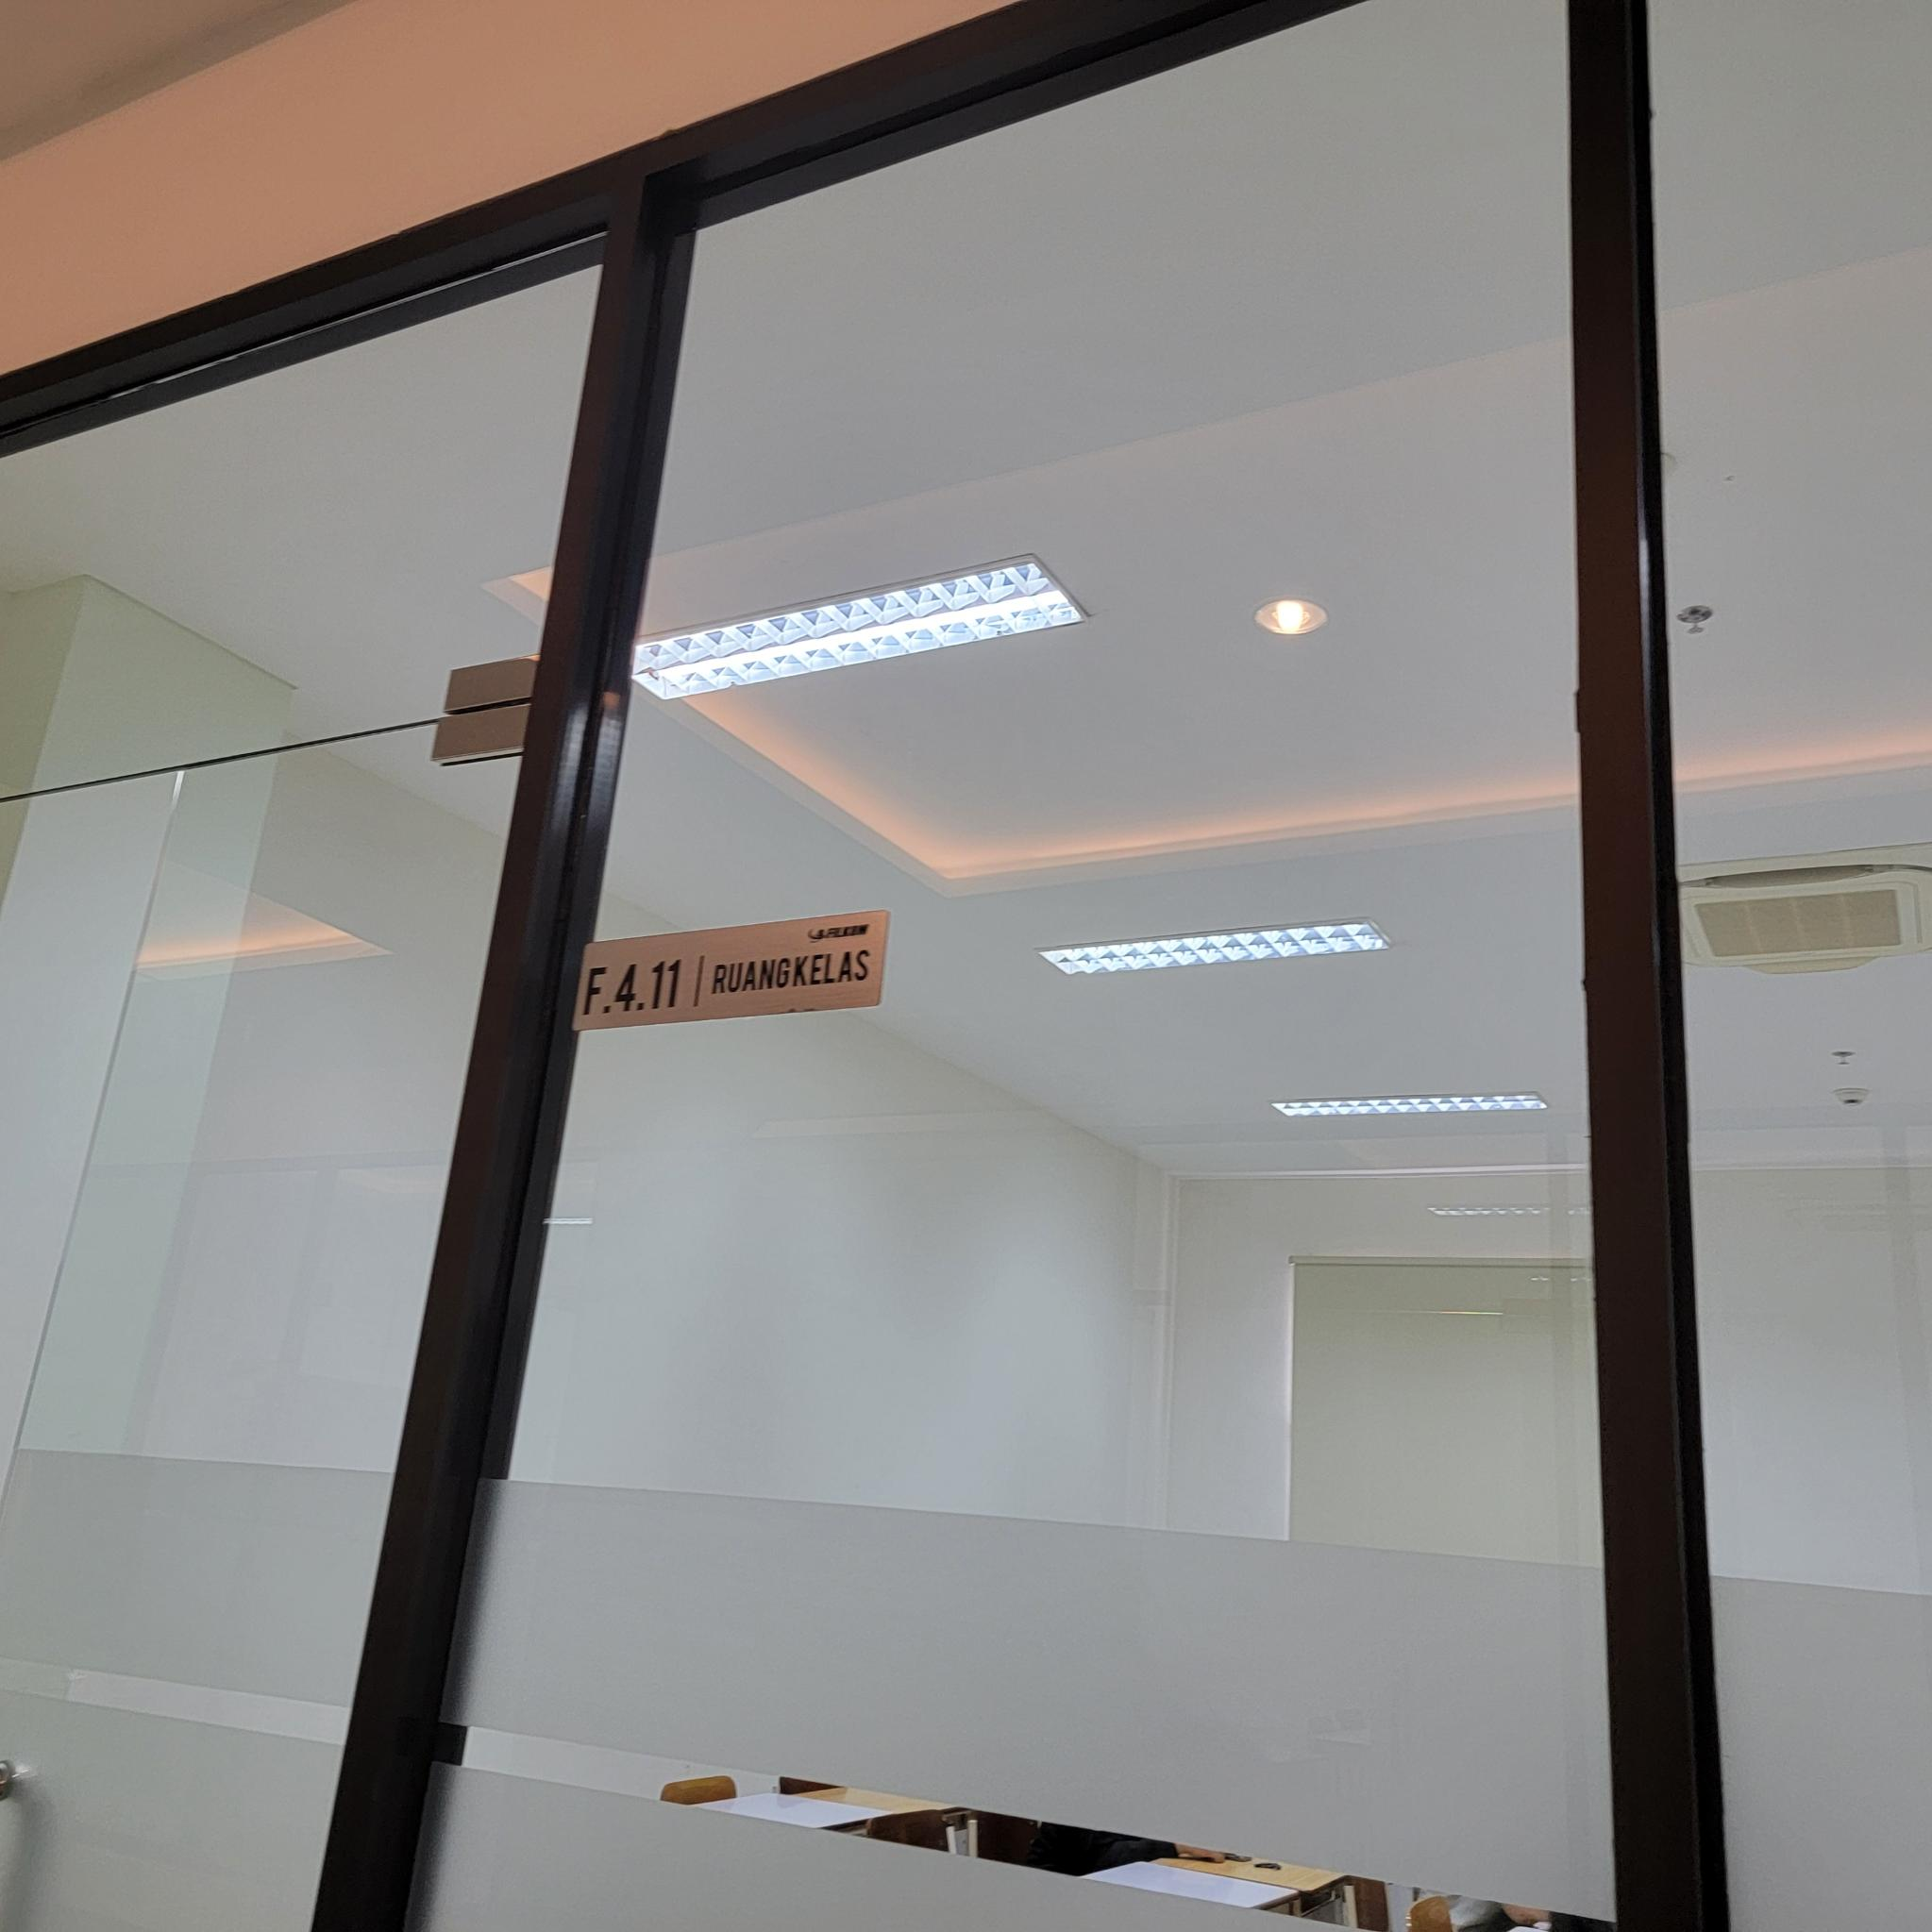plate: (573, 908, 892, 1030)
